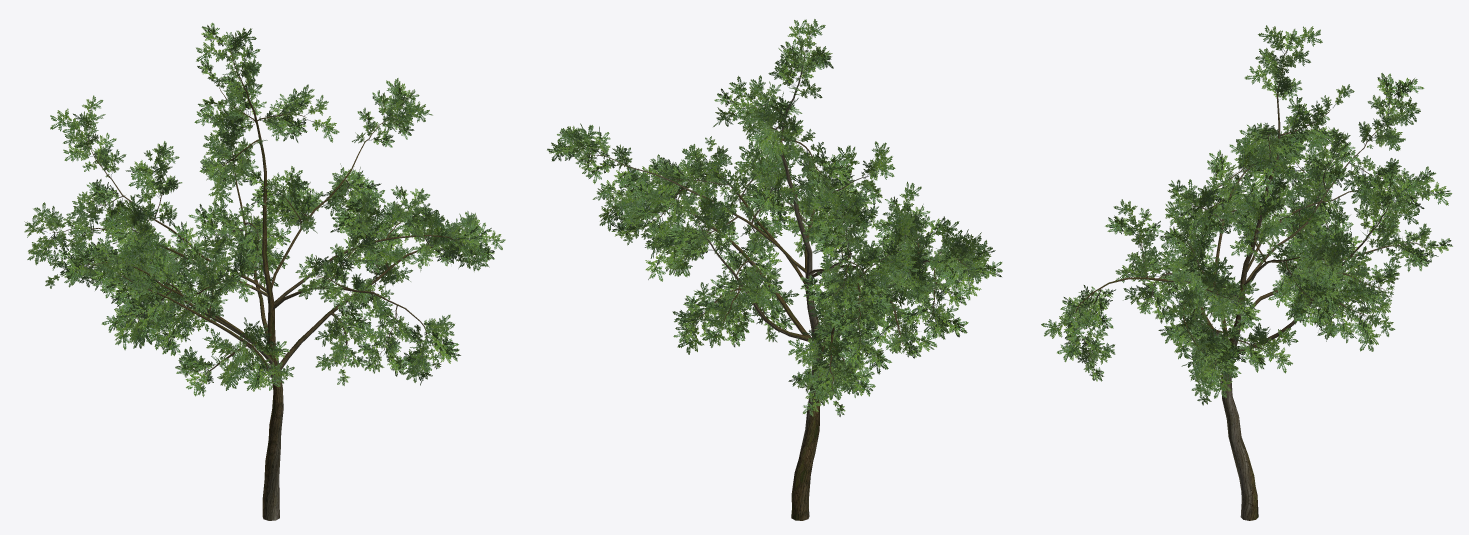
The model's file is tree_small-opt.glb.
The picture shows the model from 3 angles, left to right: view 1: azimuth 30°, elevation 25°; view 2: azimuth 150°, elevation 25°; view 3: azimuth 270°, elevation 25°; orthographic projection. The views are drawn at different scales.
Bounding box in the file's own units: 43.64 × 48.88 × 37.99.
2 materials, 2 textured.
